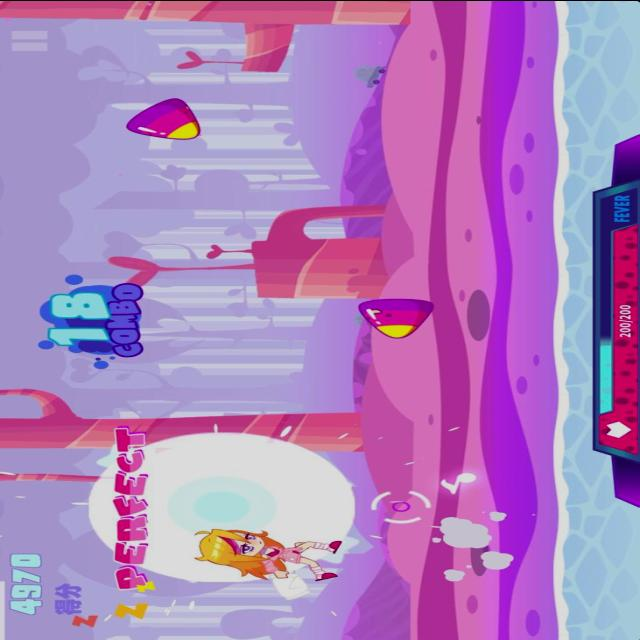jian: (118, 94, 210, 140), (352, 294, 440, 339)
